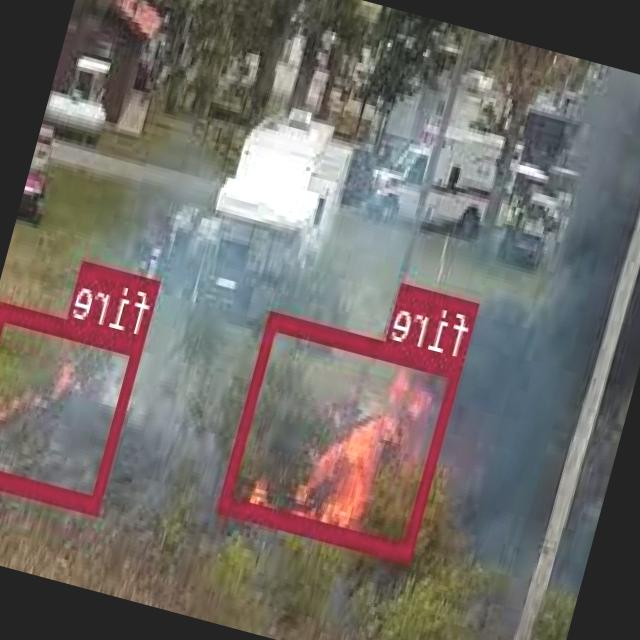fire: (220, 310, 465, 560), (0, 297, 146, 512)
